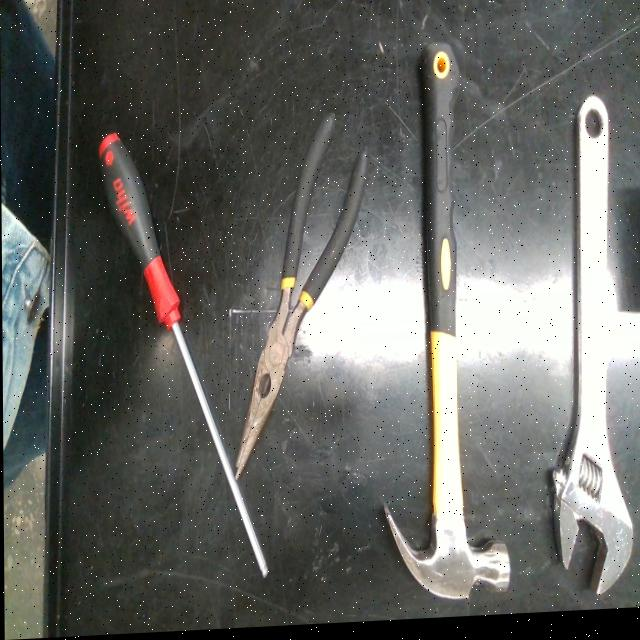Screwdriver: (98, 133, 267, 579)
